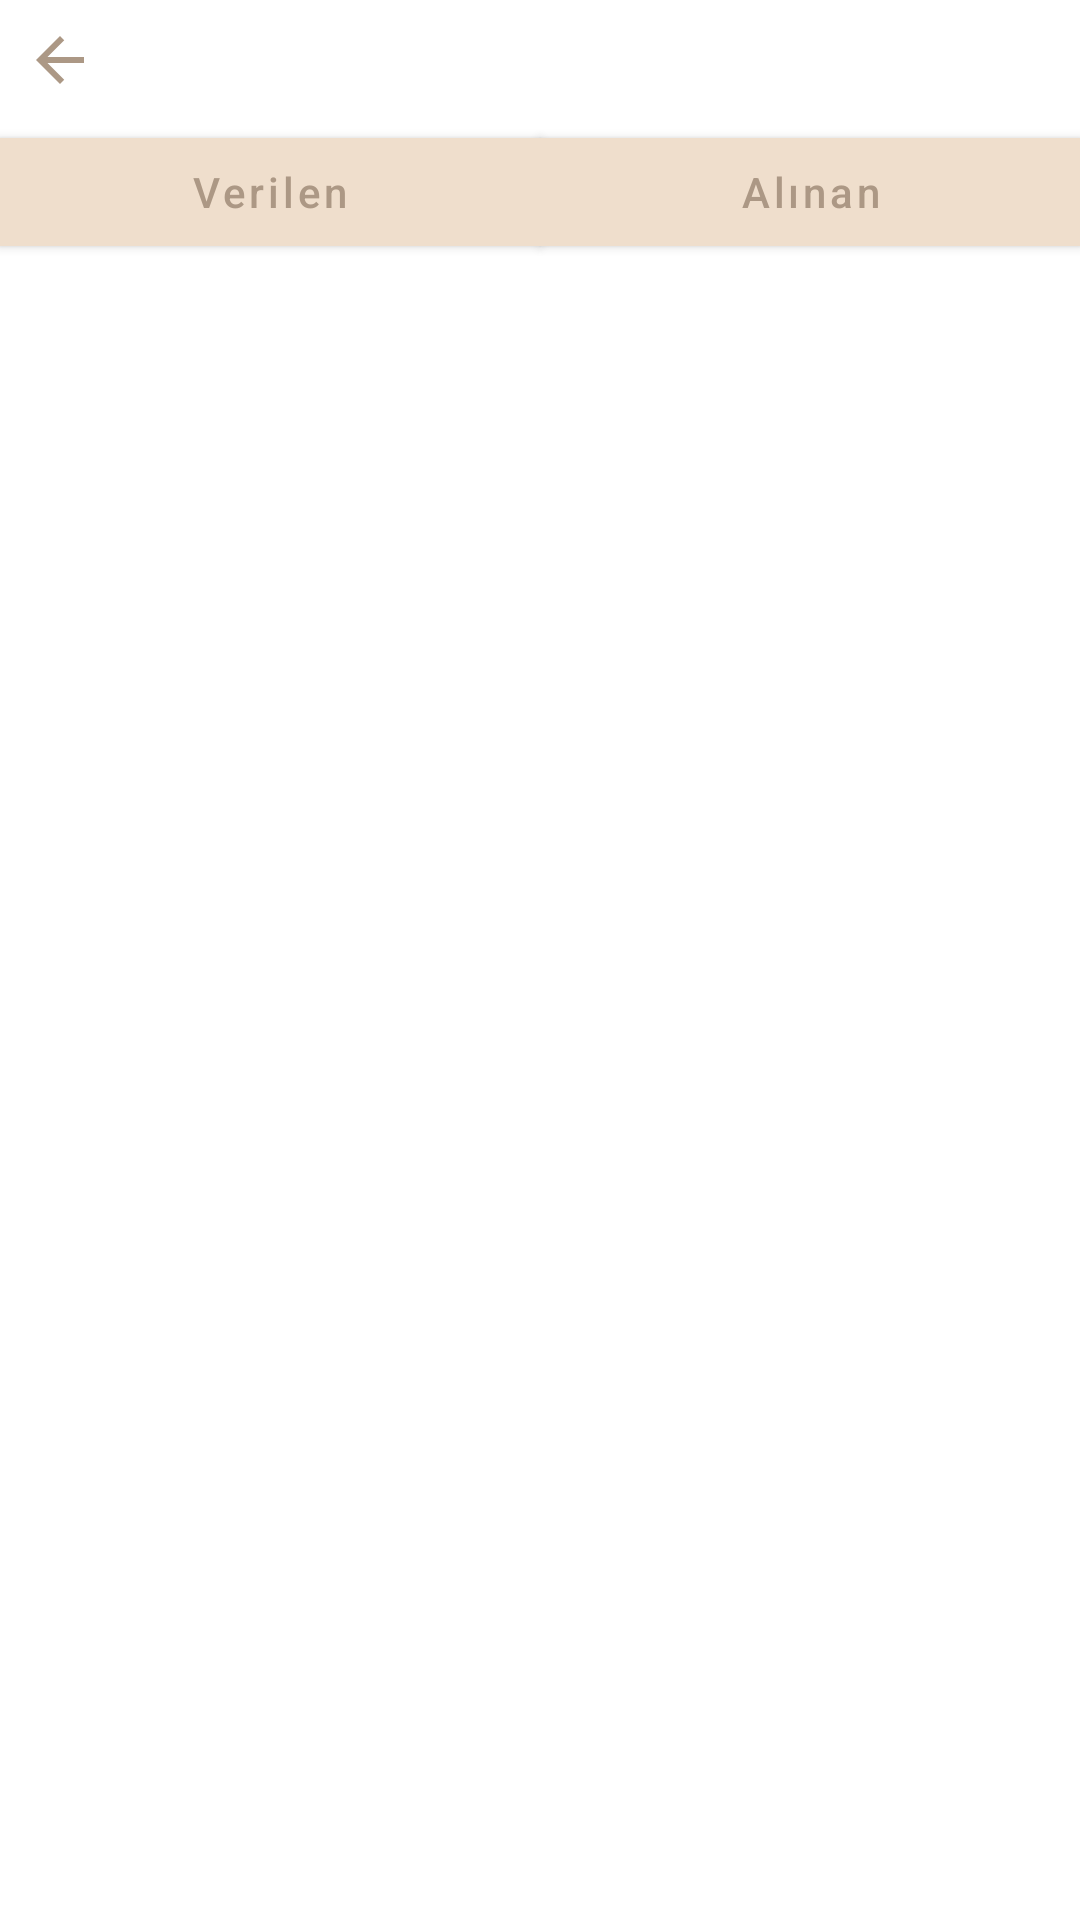

Screen size 1080w x 1920h. Icon name, then its center in pixels as (x=x, y=y):
arrow back: (x=60, y=60)
